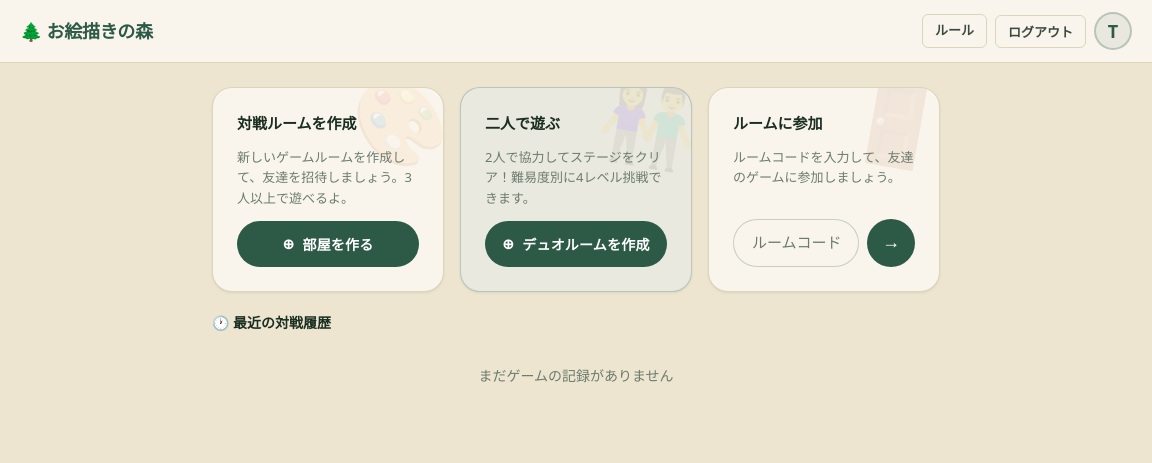
Test: Lobby ページ（ログイン済み） › ルームコード未入力で送信するとバリデーションエラー
Click the button named "参加する" at (891, 243), box [867, 219, 915, 267]
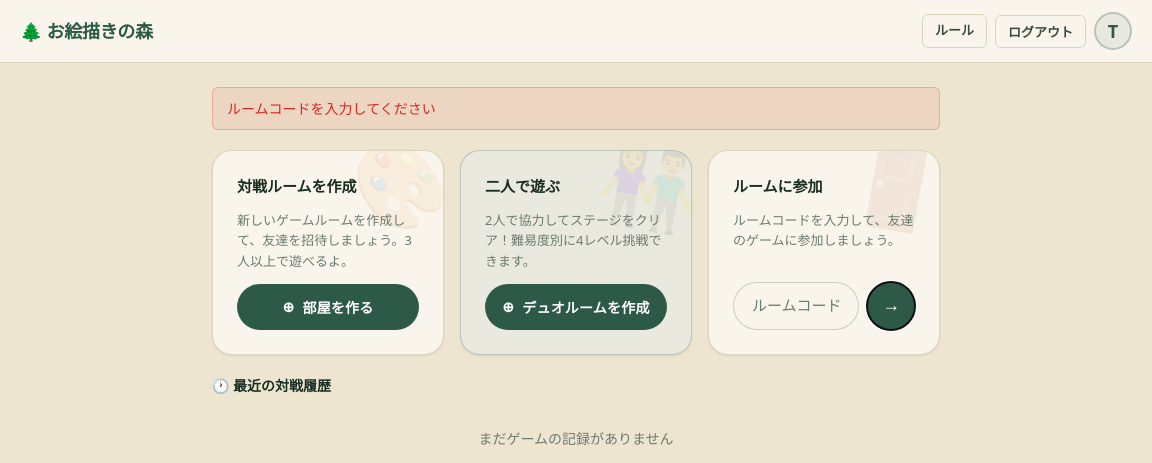
Expected: the message reads "ルームコードを入力してください", [227, 99, 436, 118]
